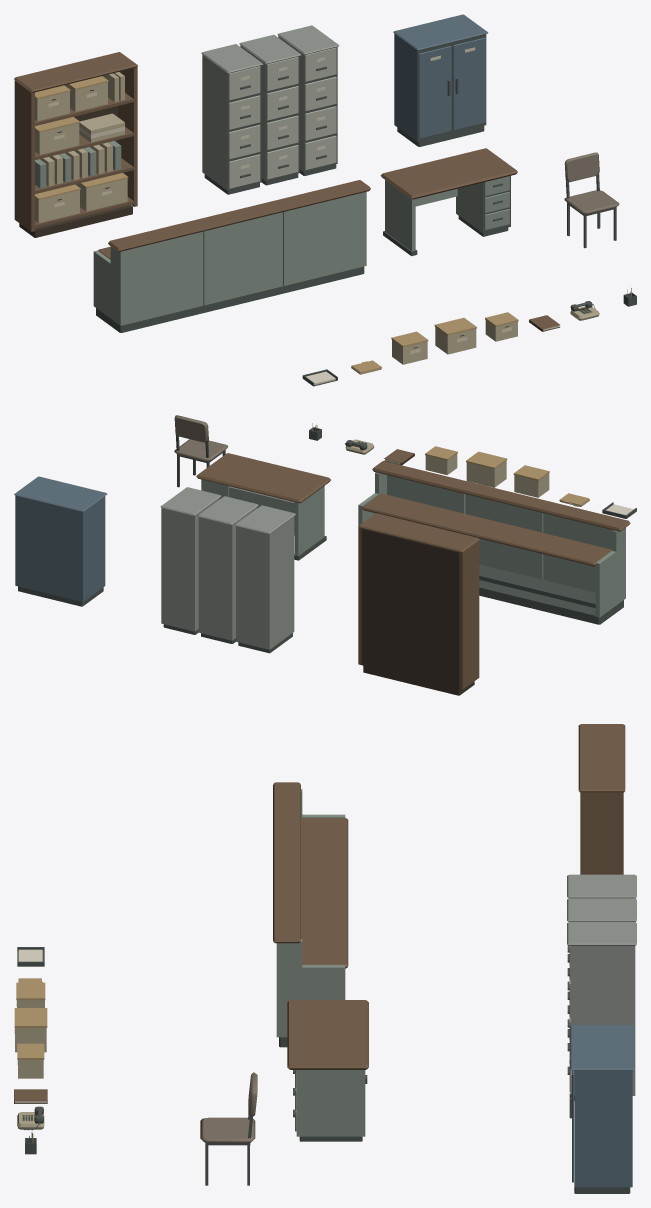
Rendered from Municipal_FurnitureKit.fbx.
3 renders of one model, top to bottom at view 1: azimuth 30°, elevation 25°; view 2: azimuth 150°, elevation 25°; view 3: azimuth 270°, elevation 25°, orthographic. The views are drawn at different scales.
Parts seen in each view (by area): view 1: Municipal_PublicCounter, Municipal_PoliceRecordsShelf, Municipal_PublicWorksCabinet, Municipal_SupplementalReportsCabinet, Municipal_ClerkDesk, Municipal_OfficeChair, Municipal_ArchiveBox_02, Municipal_ArchiveBox_01, Municipal_ArchiveBox_03; view 2: Municipal_PublicCounter, Municipal_PoliceRecordsShelf, Municipal_PublicWorksCabinet, Municipal_SupplementalReportsCabinet, Municipal_ClerkDesk, Municipal_OfficeChair, Municipal_ArchiveBox_02, Municipal_ArchiveBox_01, Municipal_ArchiveBox_03; view 3: Municipal_PublicCounter, Municipal_PublicWorksCabinet, Municipal_ClerkDesk, Municipal_SupplementalReportsCabinet, Municipal_PoliceRecordsShelf, Municipal_OfficeChair, Municipal_ArchiveBox_02, Municipal_ArchiveBox_03, Municipal_ArchiveBox_01.
Boxes of the visible parts, x1,y1,x2,y2 form: Municipal_PublicCounter: (93,180,370,332); Municipal_PoliceRecordsShelf: (14,52,137,237); Municipal_PublicWorksCabinet: (201,25,339,194); Municipal_SupplementalReportsCabinet: (393,14,488,146); Municipal_ClerkDesk: (380,148,517,256); Municipal_OfficeChair: (564,152,619,248); Municipal_ArchiveBox_02: (434,317,476,354); Municipal_ArchiveBox_01: (391,331,428,364); Municipal_ArchiveBox_03: (485,312,518,341); Municipal_PublicCounter: (358,461,630,624); Municipal_PoliceRecordsShelf: (358,513,479,695); Municipal_PublicWorksCabinet: (160,487,295,653); Municipal_SupplementalReportsCabinet: (14,476,107,606); Municipal_ClerkDesk: (196,453,330,560); Municipal_OfficeChair: (174,415,228,487); Municipal_ArchiveBox_02: (466,451,507,487); Municipal_ArchiveBox_01: (513,465,549,497); Municipal_ArchiveBox_03: (425,446,457,475); Municipal_PublicCounter: (273,782,348,1047); Municipal_PublicWorksCabinet: (567,874,636,1100); Municipal_ClerkDesk: (287,1000,368,1141); Municipal_SupplementalReportsCabinet: (569,1025,634,1193); Municipal_PoliceRecordsShelf: (578,724,625,874); Municipal_OfficeChair: (200,1072,257,1185); Municipal_ArchiveBox_02: (14,1008,47,1052); Municipal_ArchiveBox_03: (17,1043,44,1078); Municipal_ArchiveBox_01: (16,982,45,1007).
Bounding box in the file's own units: 6.15 × 1.8 × 5.35.
